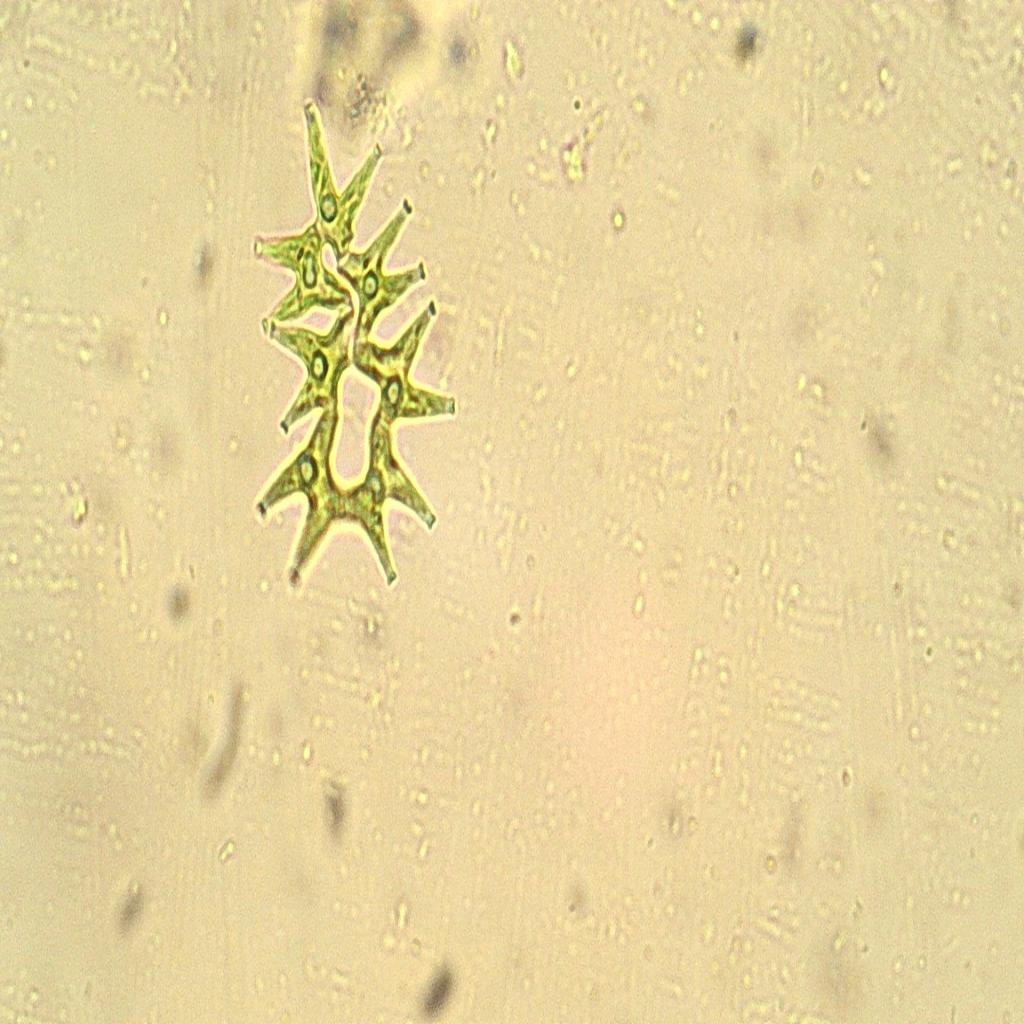Pediastrum_CFI: (246, 76, 458, 625)
